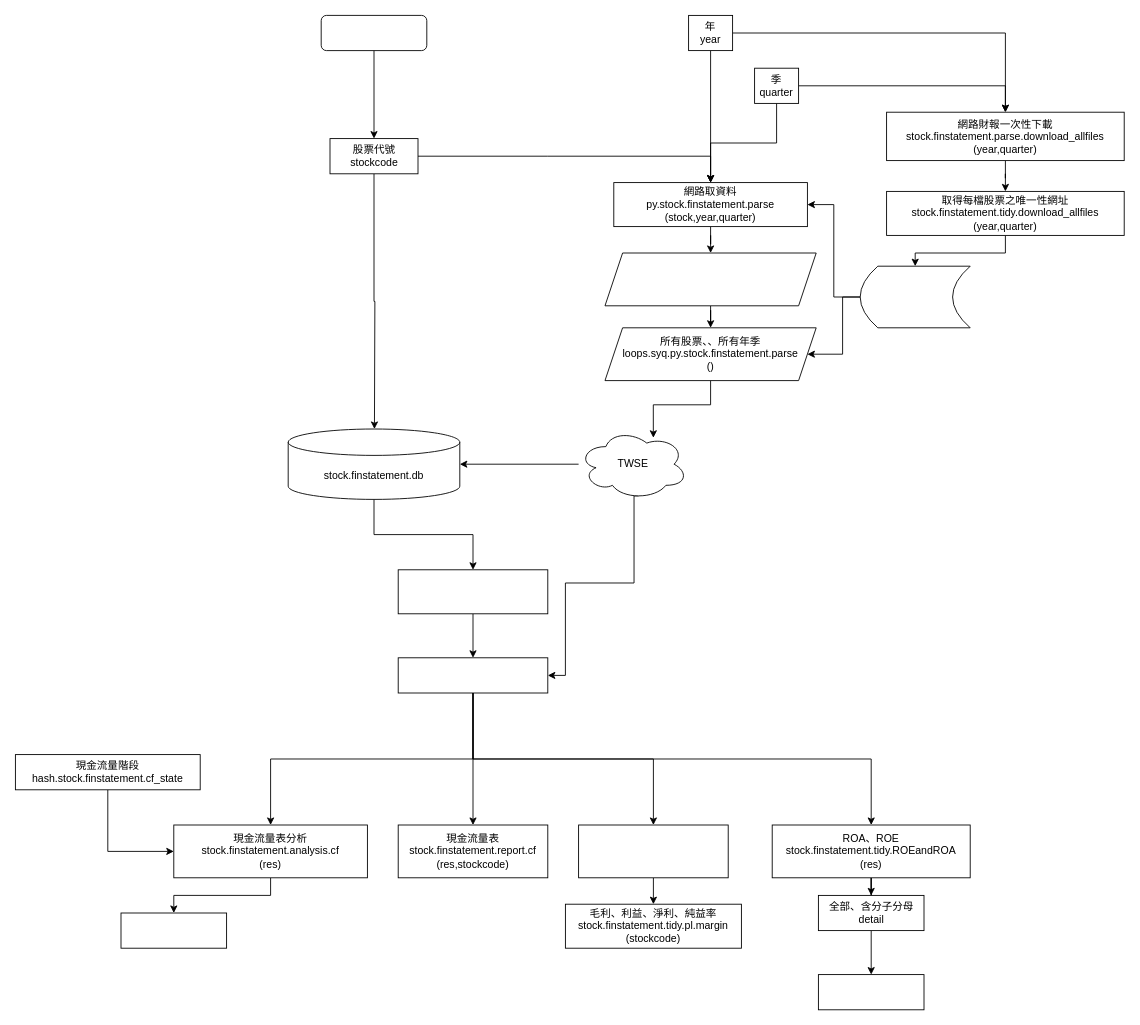
This 1140x1025 diagram has some shape labels left out. Each missing label, with the centre of its shape:
Hash.TWSE各公司財報網站分類字串.csv: (x=914, y=296)
stock.finstatement: (x=373, y=33)
個股財報 res: (x=472, y=675)
僅ROE拆分與ROA ratio: (x=871, y=992)
單檔股票、但所有年季 loops.yq.py.stock.finstatement.parse (stock,posfix=F): (x=710, y=279)
現金流量階段熱力圖 heatmap: (x=173, y=930)
綜合損益表 stock.finstatement.report.pl (res,stockcode): (x=653, y=851)
資料庫取資料 stock.db.finstatement.get (stockcode): (x=472, y=591)
